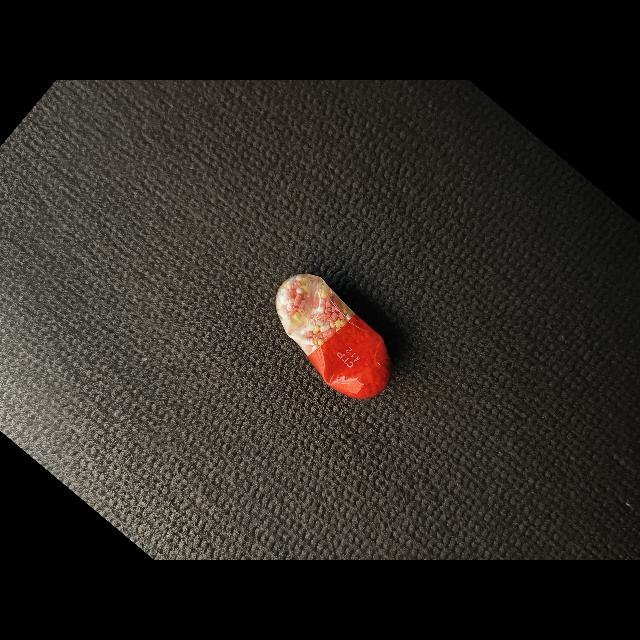Defective Capsule: (275, 274, 391, 399)
